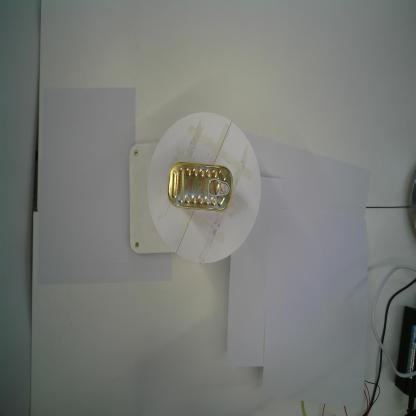Canned Food: (167, 161, 233, 212)
